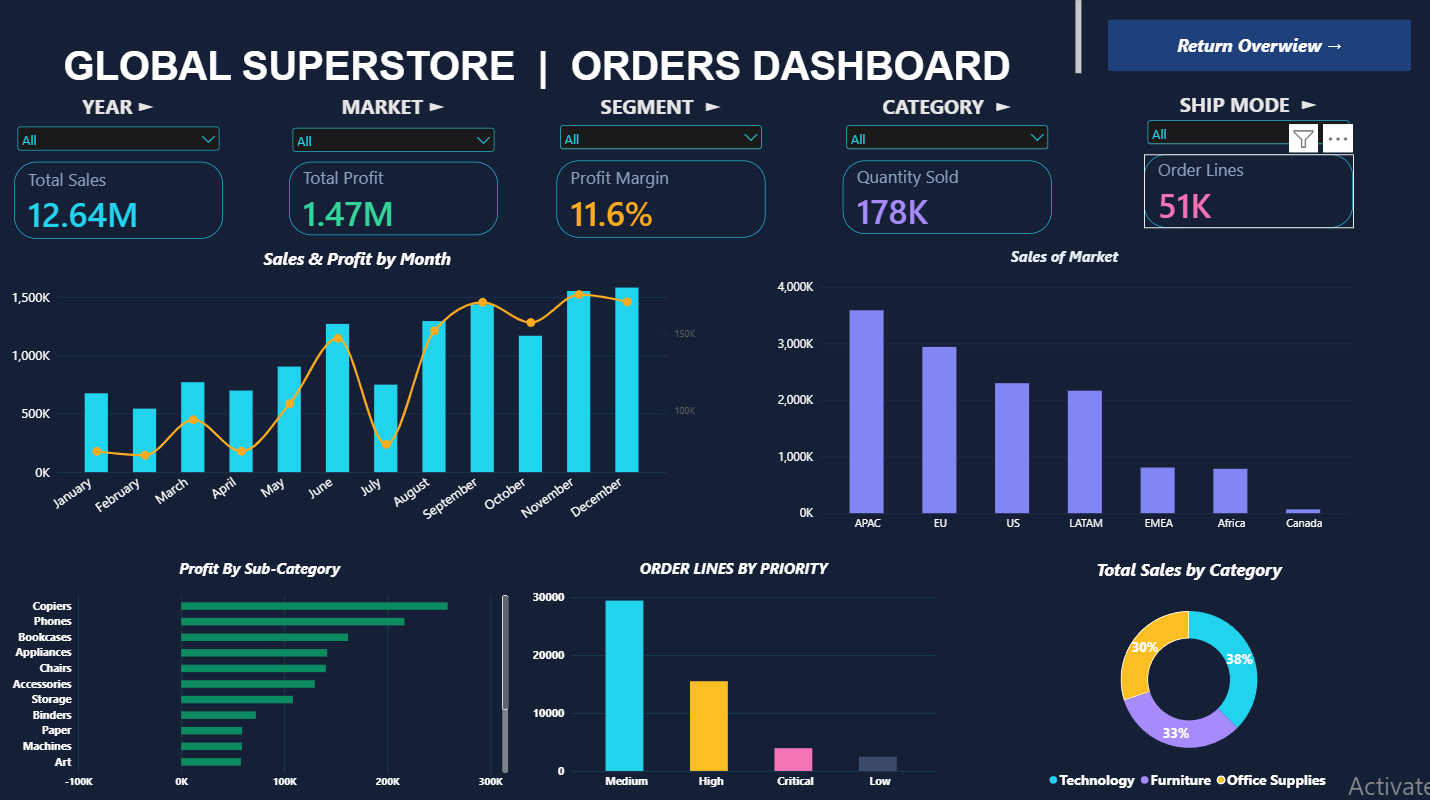

The page's visual inventory and layout, read from the dashboard file:
{"tool":"powerbi","page":{"name":"order dashboard","canvas":[1920,1080],"ordinal":0},"visuals":[{"type":"slicer","fields":{"Values":["Data.Year"]},"box":[20,166.7,280,51.7],"z":0},{"type":"slicer","fields":{"Values":["Data.Market"]},"box":[388.3,168.3,280,50],"z":1000},{"type":"slicer","fields":{"Values":["Data.Category"]},"box":[1130,165,280,51.7],"z":2000},{"type":"slicer","fields":{"Values":["Data.Segment"]},"box":[746.7,165,280,50],"z":3000},{"type":"slicer","fields":{"Values":["Data.Ship Mode"]},"box":[1535,158.3,280,51.7],"z":4000},{"type":"cardVisual","fields":{"Data":["_measures.Total Sales"]},"box":[20,220,280,103.3],"z":5000},{"type":"cardVisual","fields":{"Data":["_measures.Profit Margin"]},"box":[746.7,218.3,280,103.3],"z":6000},{"type":"cardVisual","fields":{"Data":["_measures.Order Lines"]},"box":[1535,210,280,98.3],"z":7000},{"type":"cardVisual","fields":{"Data":["_measures.Total Profit"]},"box":[388.3,220,280,98.3],"z":8000},{"type":"cardVisual","fields":{"Data":["_measures.Quantity Sold"]},"box":[1130,218.3,280,98.3],"z":9000},{"type":"lineClusteredColumnComboChart","title":"Sales & Profit by Month","fields":{"Category":["Data.Order Date.Variation.Date Hierarchy.Month"],"Y":["_measures.Total Sales"],"Y2":["_measures.Total Profit"]},"box":[0,318.3,960,416.7],"z":10000},{"type":"donutChart","fields":{"Category":["Data.Category"],"Y":["_measures.Total Sales"]},"box":[1270,735,650,345],"z":11000},{"type":"clusteredBarChart","title":"Profit By Sub-Category","fields":{"Category":["Data.Sub-Category"],"Y":["_measures.Total Profit"]},"box":[0,735,698.3,345],"z":12000},{"type":"clusteredColumnChart","title":"ORDER LINES BY PRIORITY","fields":{"Category":["Data.Order Priority"],"Y":["_measures.Order Lines"]},"box":[698.3,735,571.7,345],"z":13000},{"type":"textbox","box":[0,0,1450,126.7],"z":14000},{"type":"textbox","box":[20,126.7,280,41.7],"z":15000},{"type":"textbox","box":[388.3,126.7,280,43.3],"z":16000},{"type":"textbox","box":[1130,126.7,280,41.7],"z":17000},{"type":"textbox","box":[1571.7,123.3,206.7,35],"z":18000},{"type":"textbox","box":[758.3,126.7,256.7,40],"z":19000},{"type":"clusteredColumnChart","title":"Sales of Market","fields":{"Category":["Data.Market"],"Y":["Sum(Data.Sales)"]},"box":[1026.7,318.3,801.7,416.7],"z":20000},{"type":"actionButton","box":[1485,28.3,406.7,70],"z":21000}]}

Visuals, with their boxes in screenshot pixels (x1, y1, x2, y2), scaled from the page's 1920x1080 canvas onto the 1430x800 screenshot:
slicer - Data.Year: 15:123:223:162
slicer - Data.Market: 289:125:498:162
slicer - Data.Category: 842:122:1050:161
slicer - Data.Segment: 556:122:765:159
slicer - Data.Ship Mode: 1143:117:1352:156
cardVisual - _measures.Total Sales: 15:163:223:239
cardVisual - _measures.Profit Margin: 556:162:765:238
cardVisual - _measures.Order Lines: 1143:156:1352:228
cardVisual - _measures.Total Profit: 289:163:498:236
cardVisual - _measures.Quantity Sold: 842:162:1050:235
"Sales & Profit by Month" lineClusteredColumnComboChart: 0:236:715:544
donutChart - Data.Category x _measures.Total Sales: 946:544:1429:799
"Profit By Sub-Category" clusteredBarChart: 0:544:520:799
"ORDER LINES BY PRIORITY" clusteredColumnChart: 520:544:946:799
textbox: 0:0:1080:94
textbox: 15:94:223:125
textbox: 289:94:498:126
textbox: 842:94:1050:125
textbox: 1171:91:1325:117
textbox: 565:94:756:123
"Sales of Market" clusteredColumnChart: 765:236:1362:544
actionButton: 1106:21:1409:73
